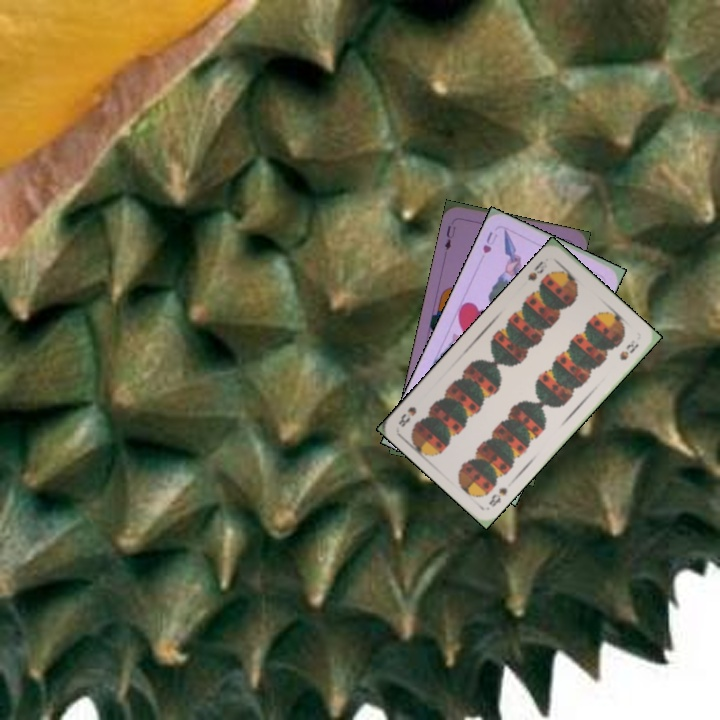EU: (440, 221, 459, 253)
HU: (478, 228, 500, 256)
S8: (484, 483, 510, 510), (524, 257, 550, 283)
